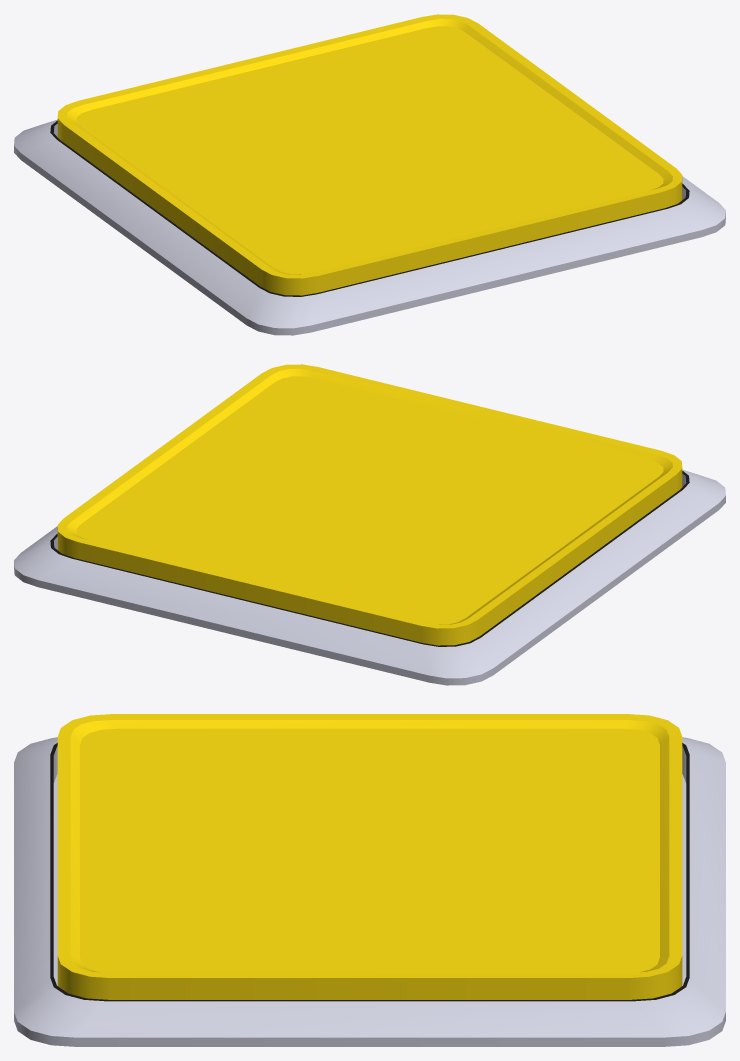
Rendered from Button.fbx.
The picture shows the model from 3 angles, top to bottom: view 1: azimuth 30°, elevation 25°; view 2: azimuth 150°, elevation 25°; view 3: azimuth 270°, elevation 25°; orthographic projection. The views are drawn at different scales.
Visible parts, largest first — view 1: button, pedestal; view 2: button, pedestal; view 3: button, pedestal.
Part boxes in pixels (x1,y1,x2,y2): button: (57,14,682,295); pedestal: (14,119,725,335); button: (57,364,682,645); pedestal: (14,469,725,685); button: (57,714,682,999); pedestal: (14,737,725,1046).
Bounding box in the file's own units: 229 × 17.83 × 229.
